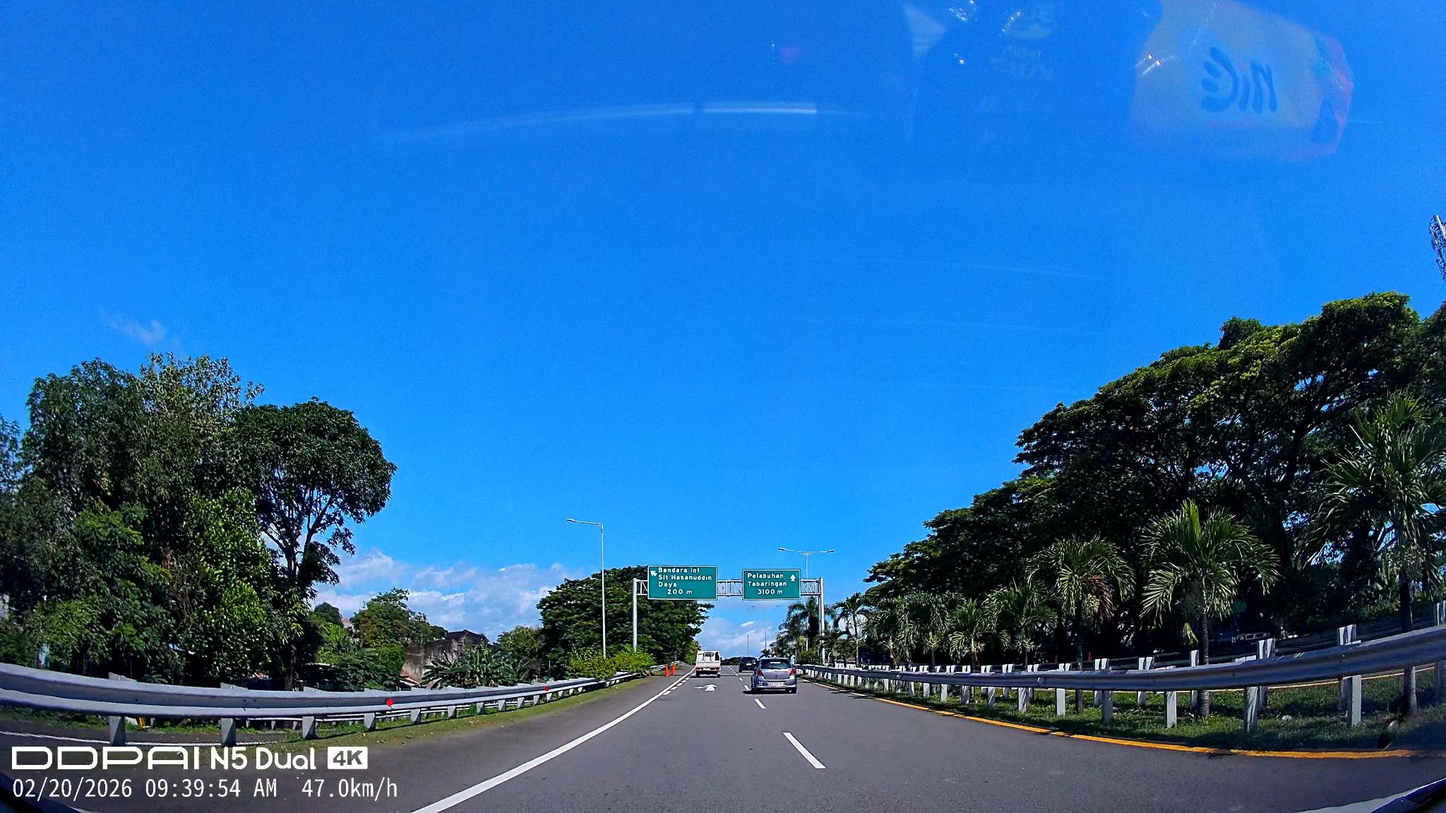rambu_teks: (648, 565, 717, 601), (742, 569, 801, 601)
